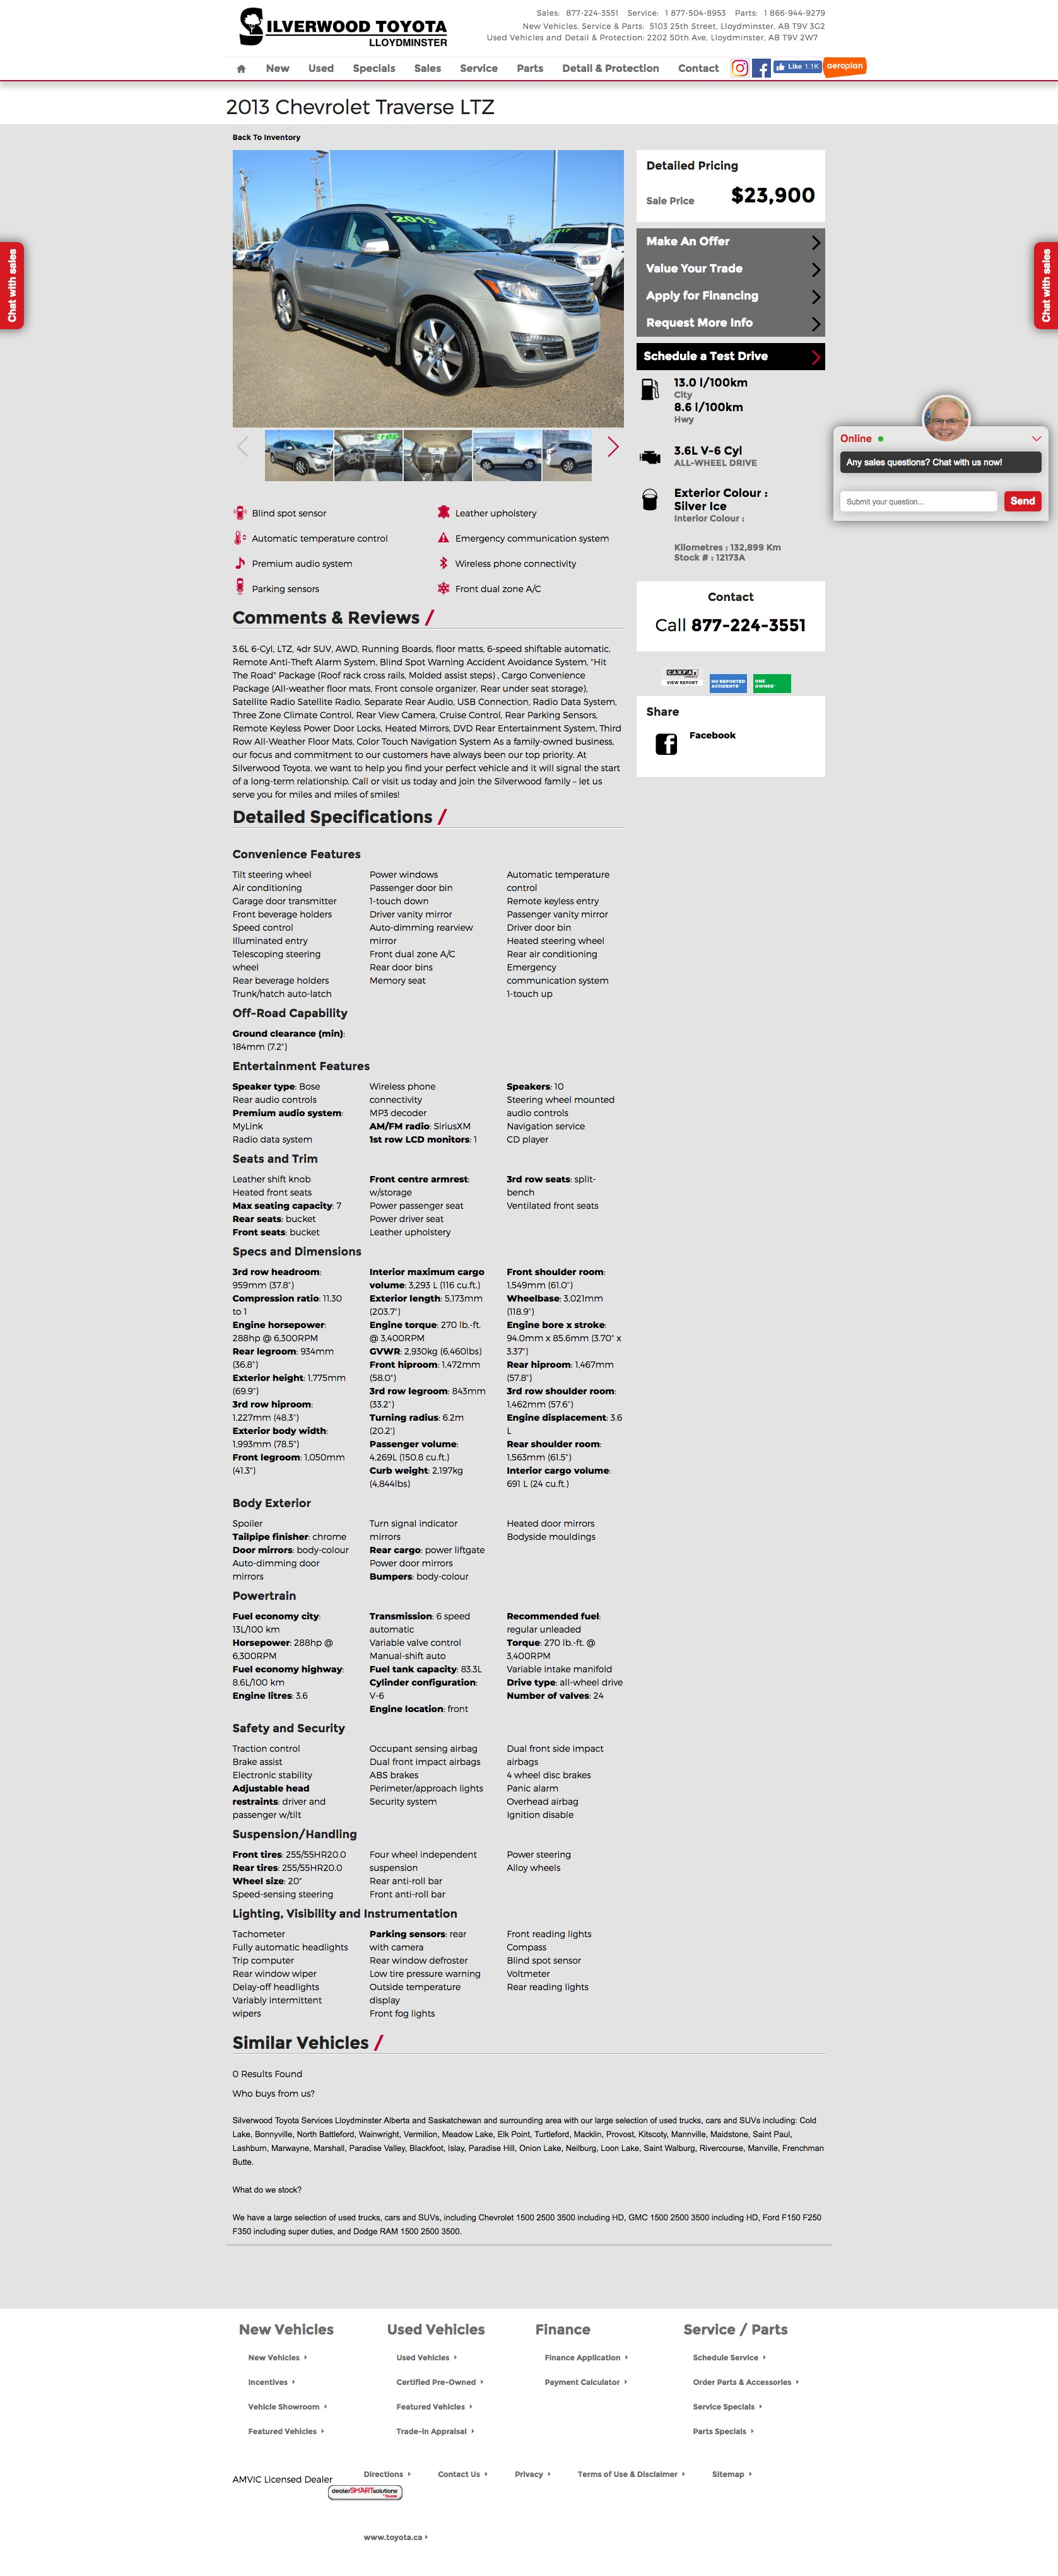car: (608, 437, 619, 458)
